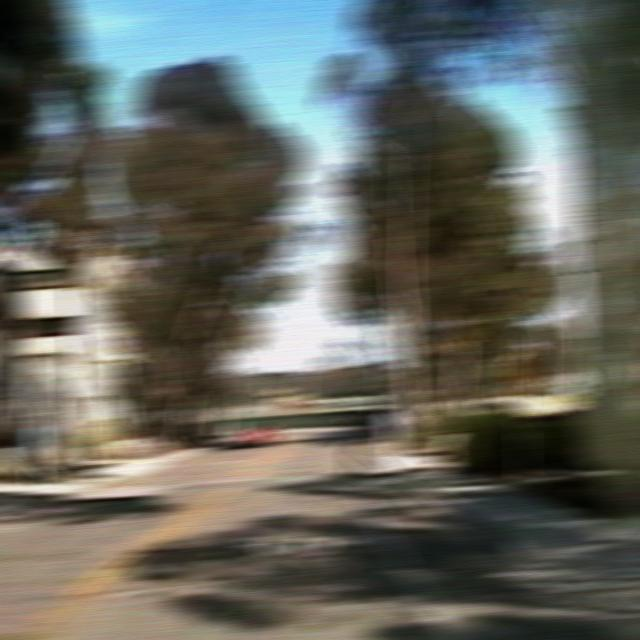pedestrianCrossing: (503, 348, 540, 396)
